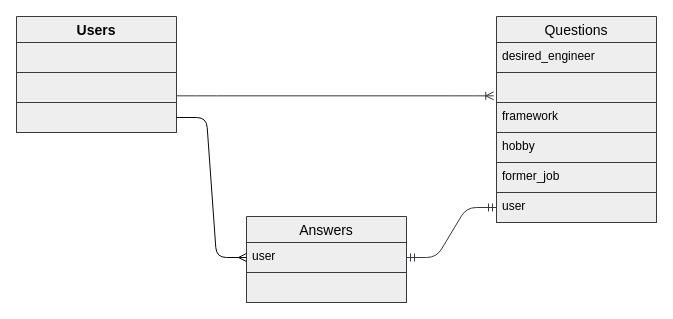
This 673x319 diagram has some shape labels left out. Here are the shapes that lost their labels. From the top down, the centre of each, then its label:
At [96,57]: "name".
At [96,87]: "email".
At [576,87]: "language".
At [96,117]: "encrypted_password".
At [326,287]: "question".
